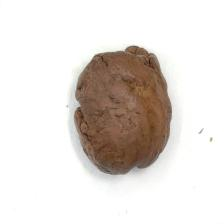NG: (71, 78, 104, 168), (93, 43, 166, 75), (116, 162, 157, 175)
